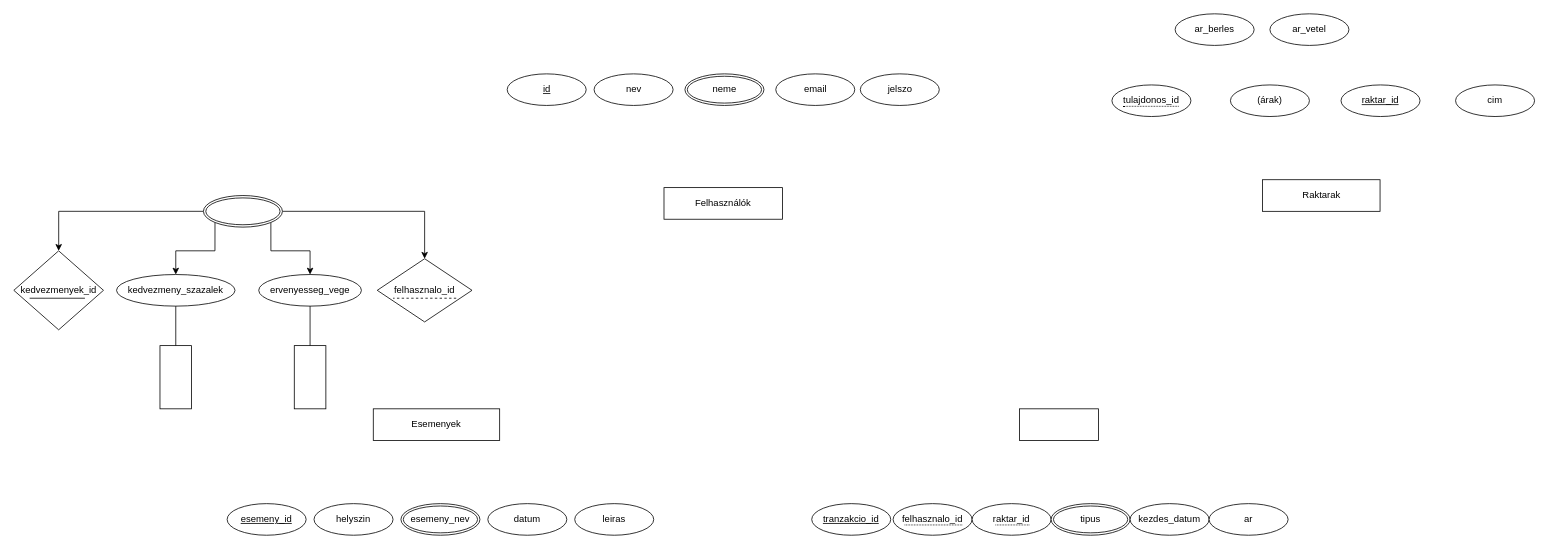
The diagram is 1548 pixels wide and 549 high, and some of its shapes have lost their labels. Here are the shapes that lost their labels. From the top down, the centre of each, then its label:
At (x=242, y=211): "Kedvezmenyek".
At (x=1058, y=424): "Berles_Vasarlas".
